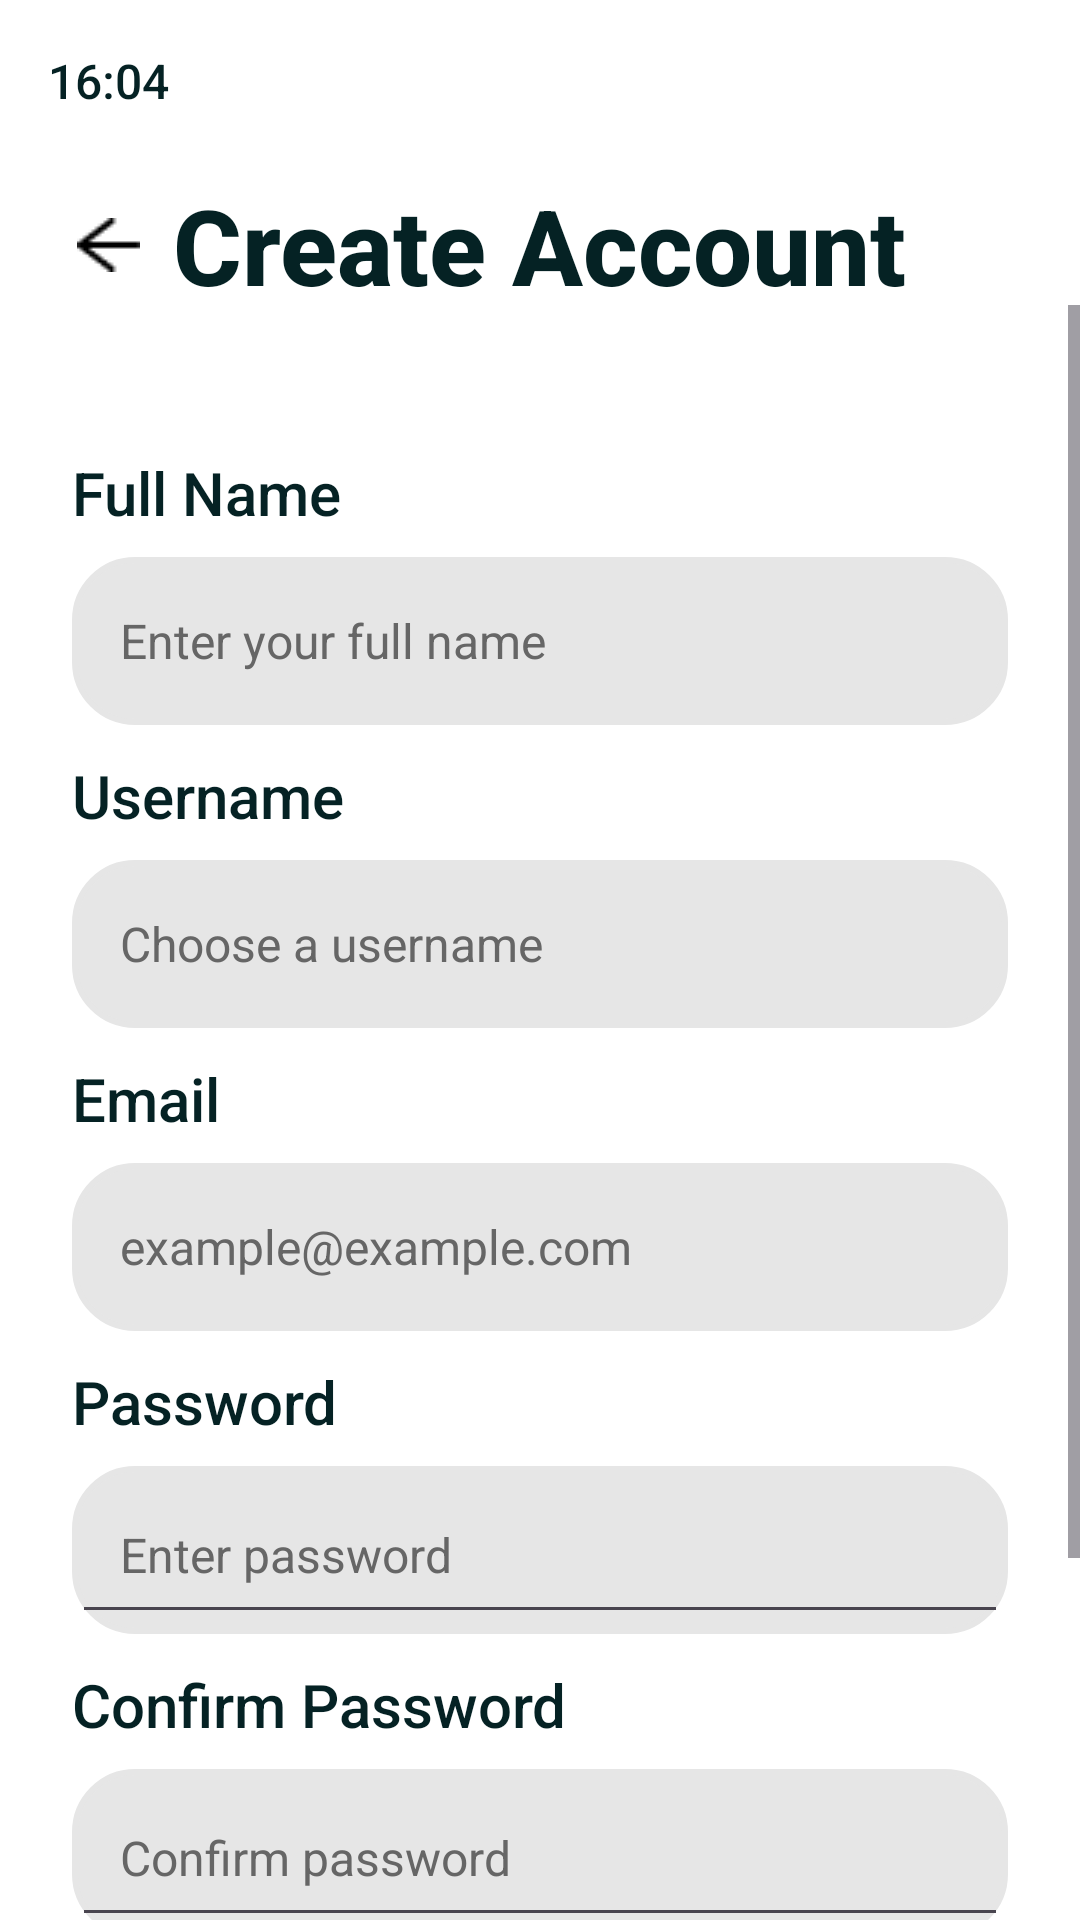

Named icons in this screenshot (1080x1920) and their bounding boxes, (x1, y1, x2, y2):
Back: (77, 218, 140, 272)
